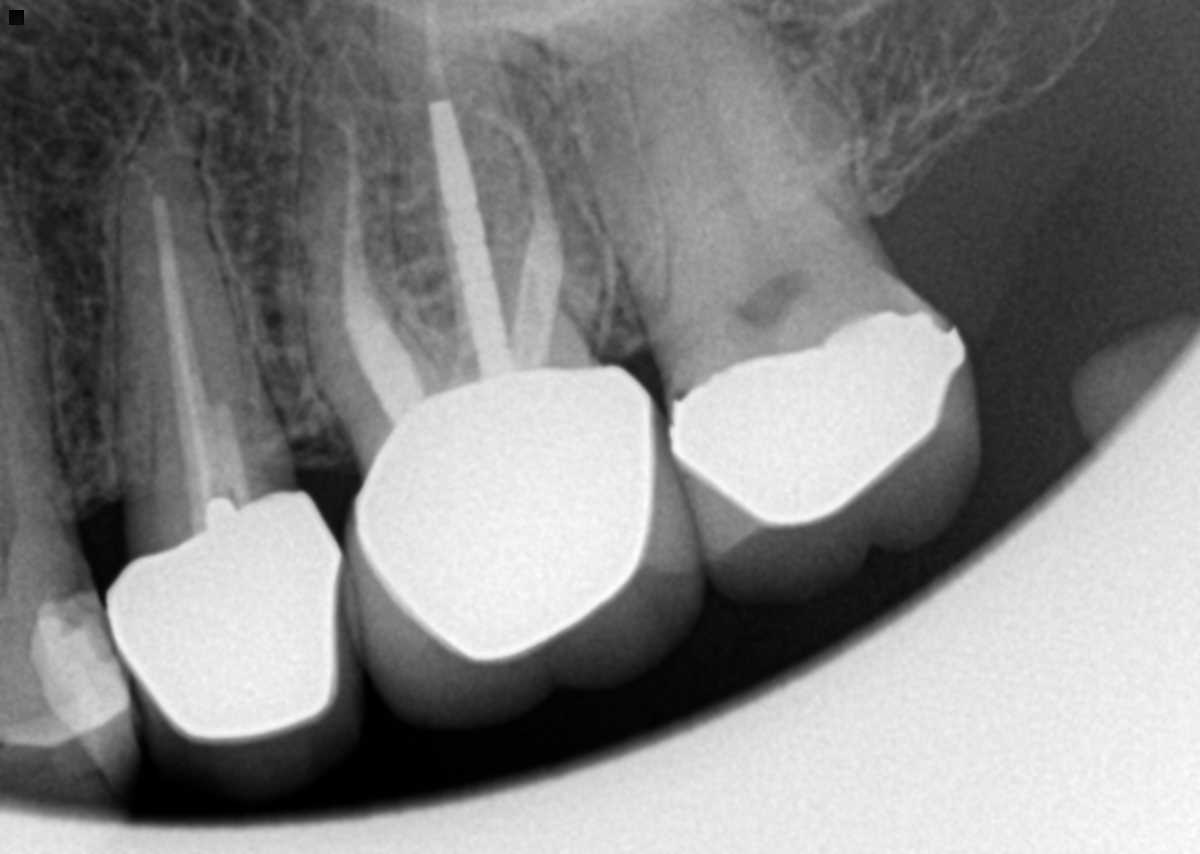Distal Root: (418, 57, 617, 364)
Main Root: (112, 80, 291, 501), (627, 0, 836, 317), (0, 171, 76, 547)
Mesial Root: (297, 19, 433, 441)
Palatal Root: (381, 0, 536, 396)
Root Canal Filling: (152, 193, 249, 528), (474, 113, 568, 377), (338, 117, 423, 408)
